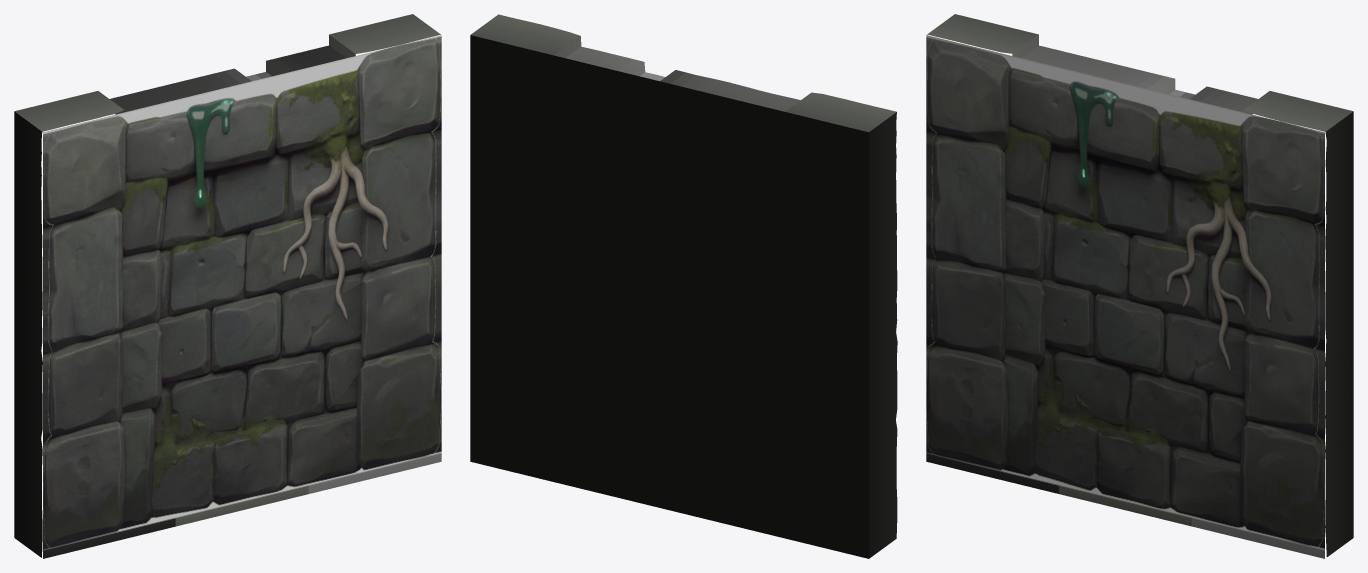
Rendered from wall_roots2.glb.
The picture shows the model from 3 angles, left to right: view 1: azimuth 30°, elevation 25°; view 2: azimuth 150°, elevation 25°; view 3: azimuth 330°, elevation 25°; orthographic projection.
Parts seen in each view (by area): view 1: wall_roots2; view 2: wall_roots2; view 3: wall_roots2.
Part boxes in pixels (<box>): wall_roots2: <box>14,14,441,558</box>; wall_roots2: <box>470,14,897,558</box>; wall_roots2: <box>926,14,1353,558</box>.
Bounding box in the file's own units: 2 × 2.05 × 0.25.
1 material, 1 textured.
